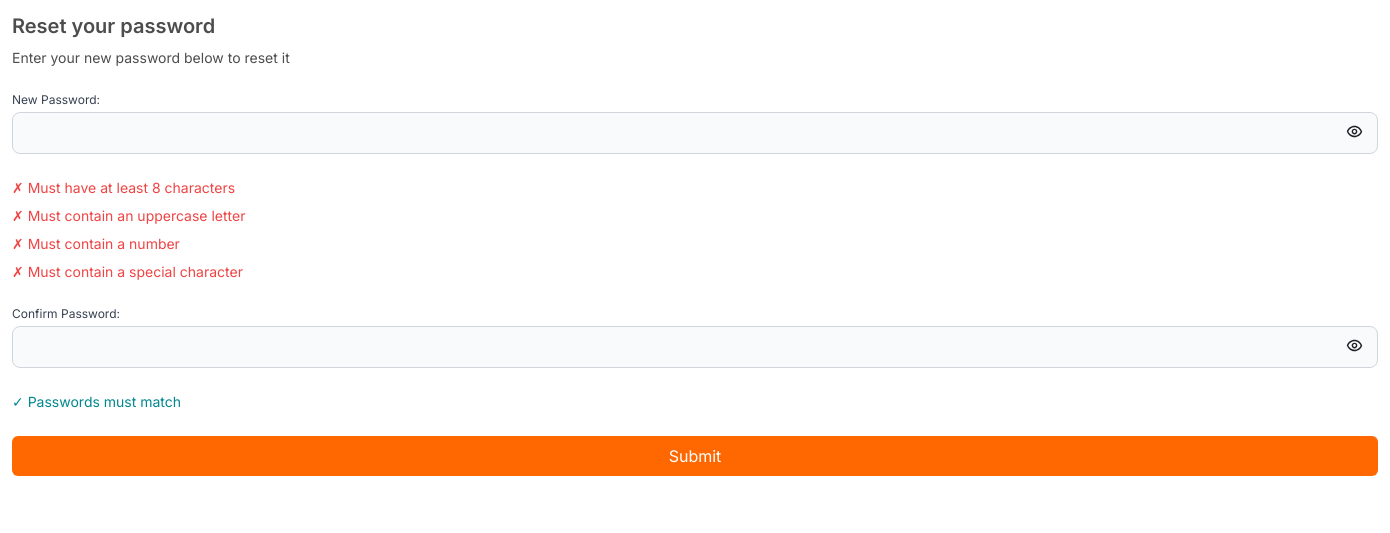
Scenario: ResetPasswordForm integration › shows error if passwords do not match
The width and height of the screenshot is (1390, 533).
Type "Abcdef1!" into the password field labelled "New Password:" at (695, 133), box [12, 112, 1378, 154]
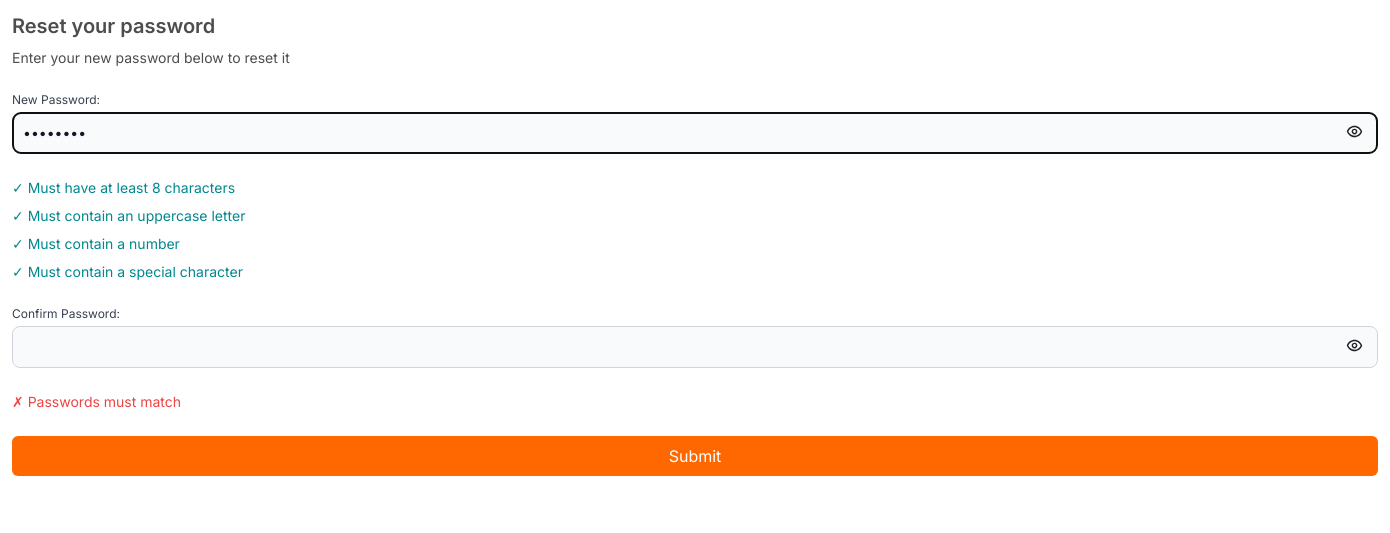
Type "Abcdef1@different" into the password field labelled "Confirm Password:" at (695, 347), box [12, 326, 1378, 368]
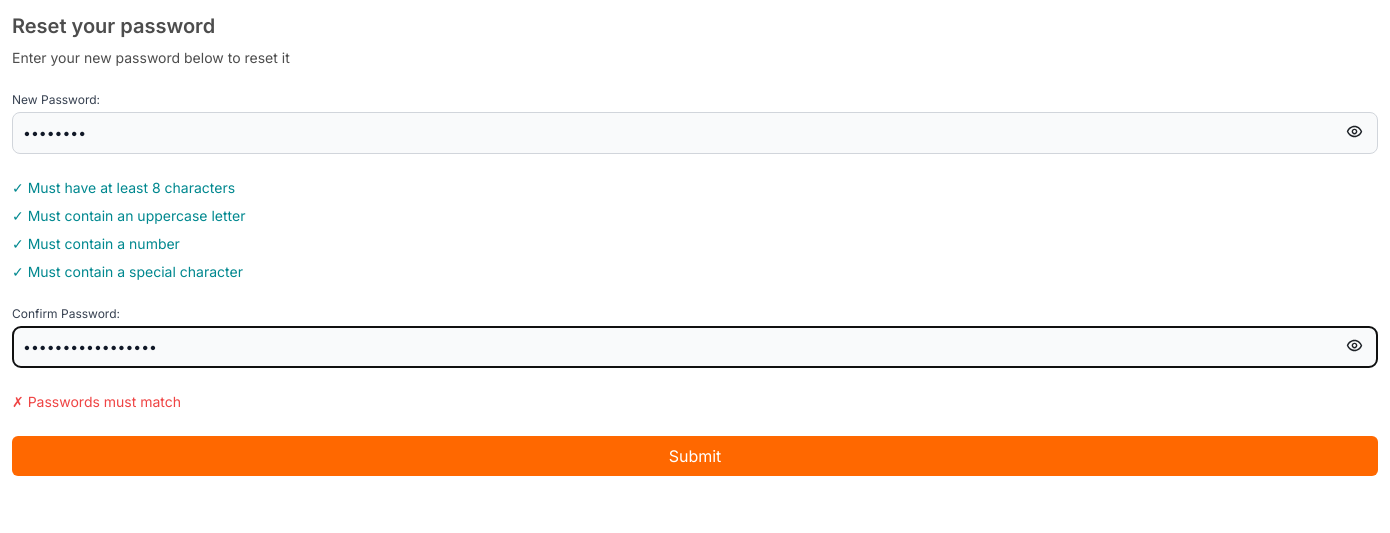
Click the button "Submit" at (695, 456), box [12, 436, 1378, 476]
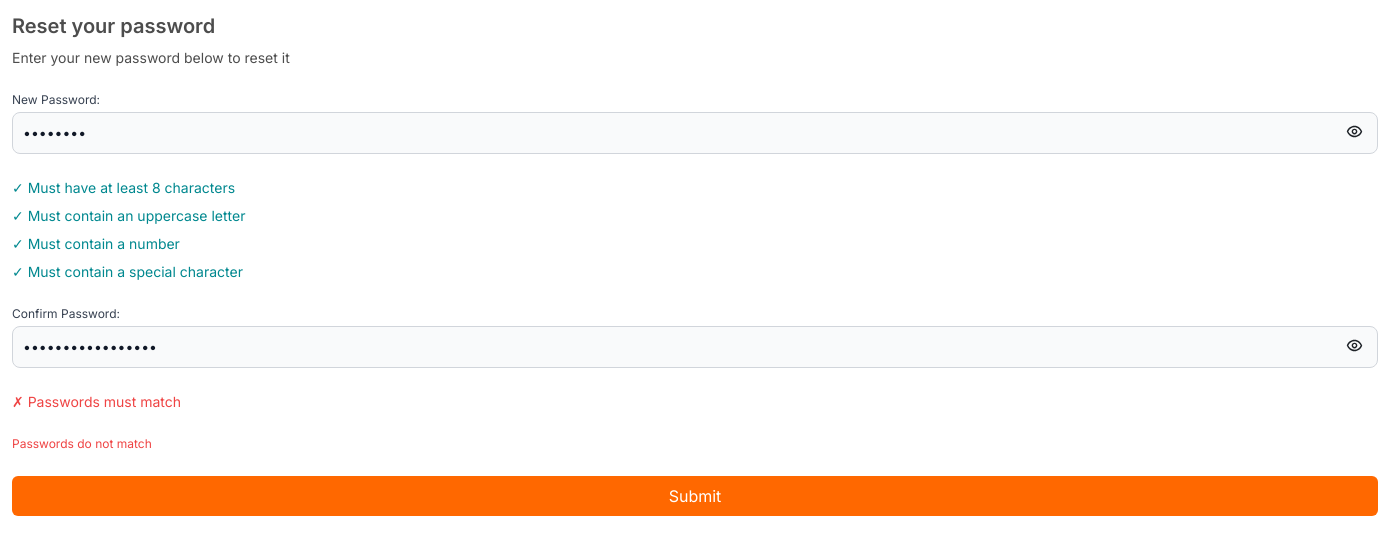
Now the text "Passwords do not match" is shown, box [12, 436, 152, 451]
